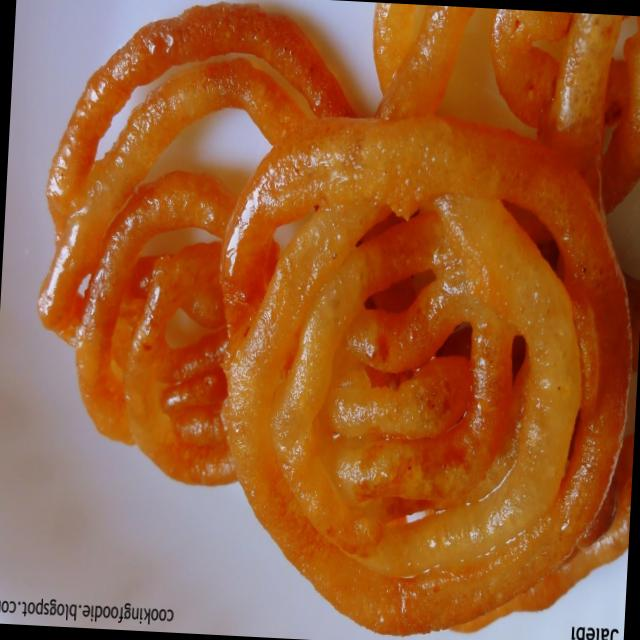jalebi: (31, 0, 640, 635)
